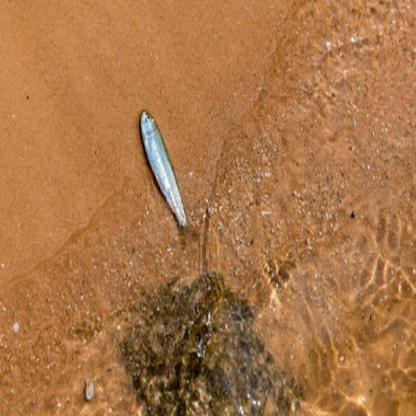deceased fish: (138, 105, 202, 253)
